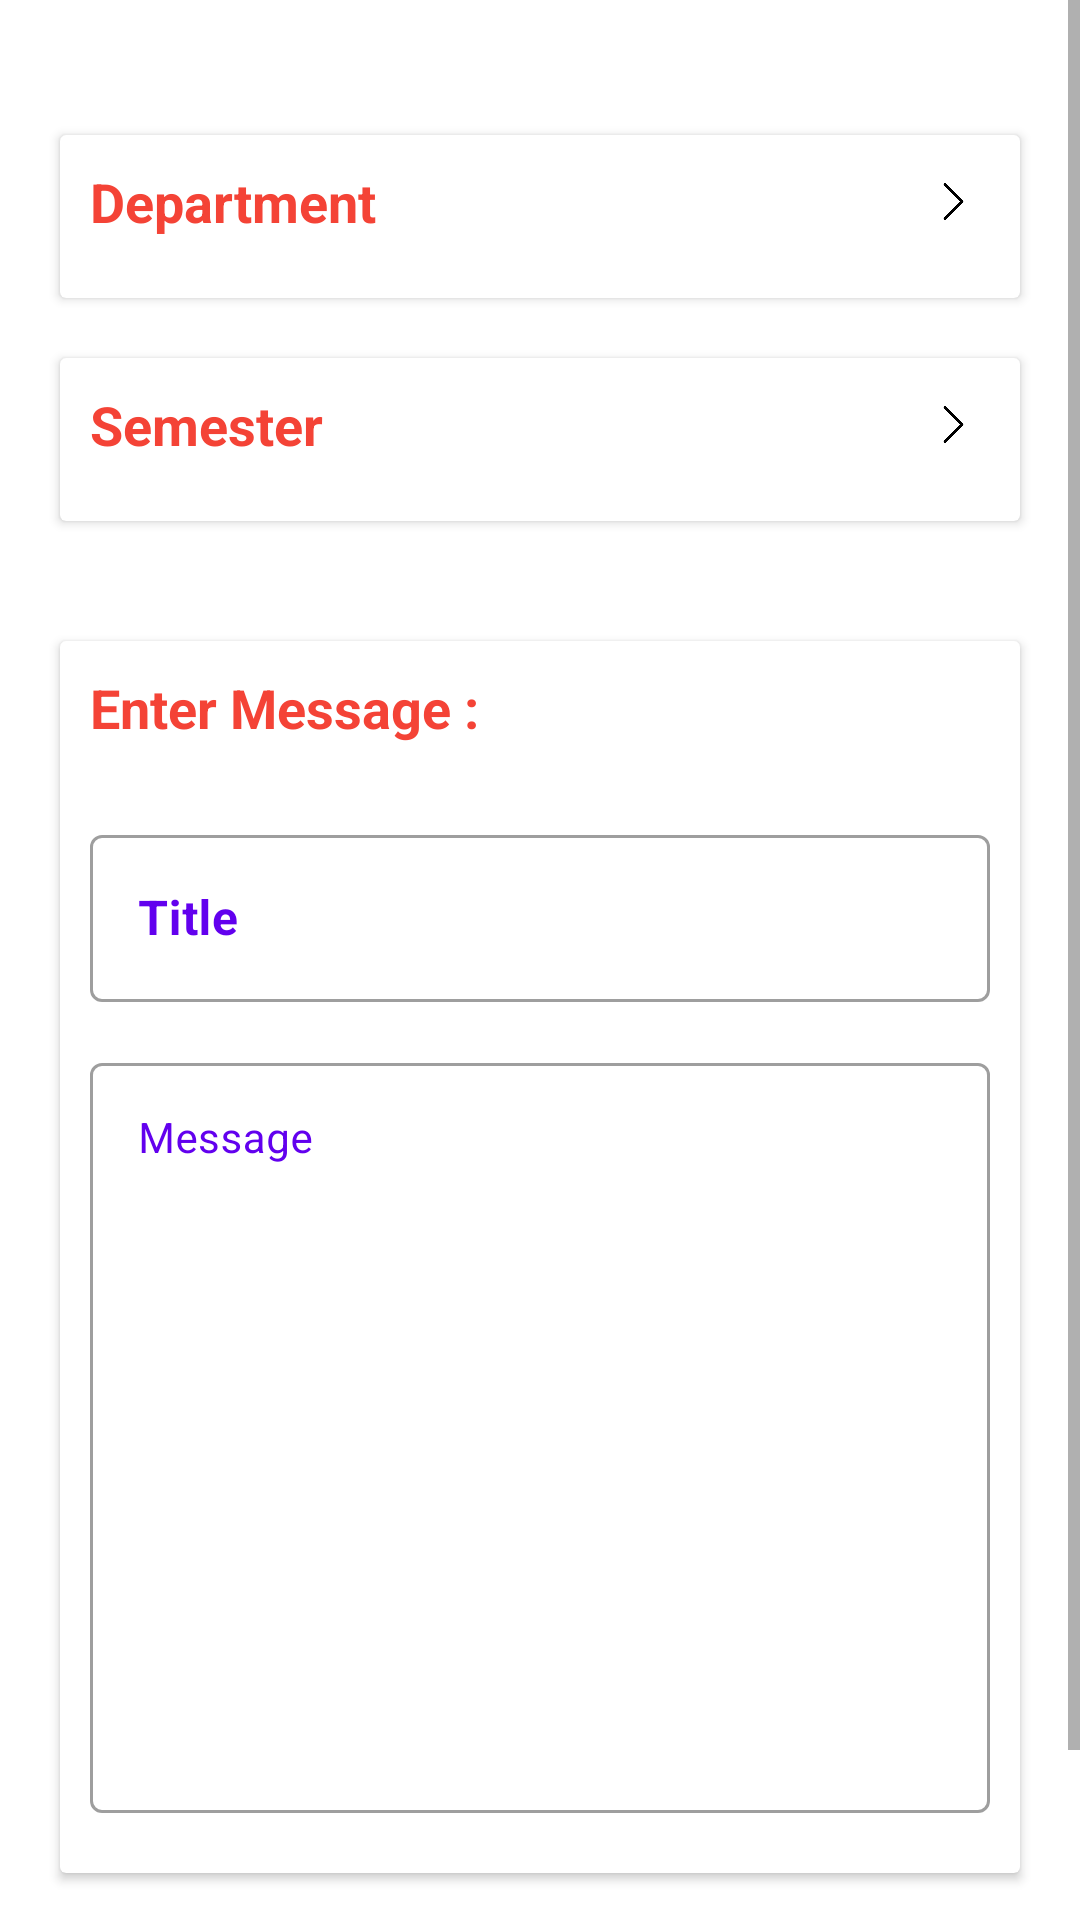

Icons on this 1080*1920 Android screen, each with the point to tap as point (x, y):
next: point (953, 201), point (953, 424)
